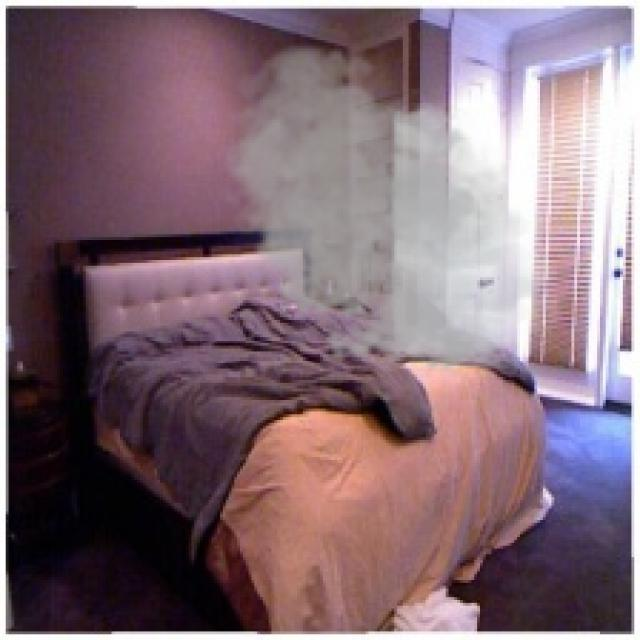smoke: (212, 37, 557, 383)
